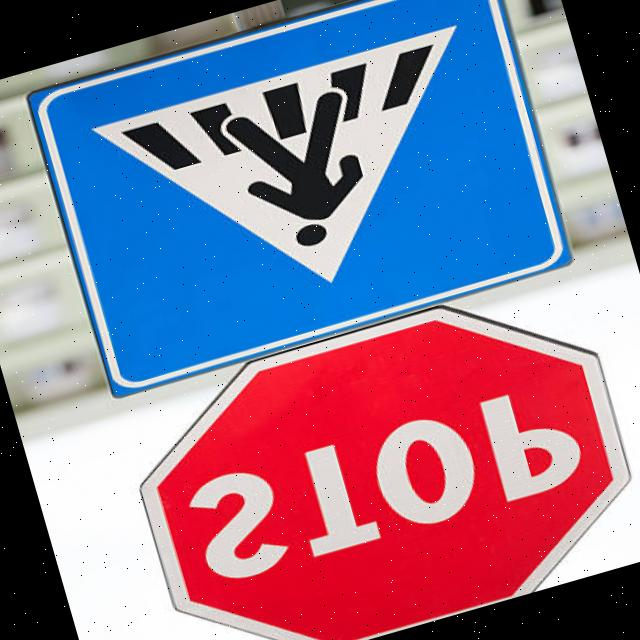crosswalk: (4, 0, 613, 414)
